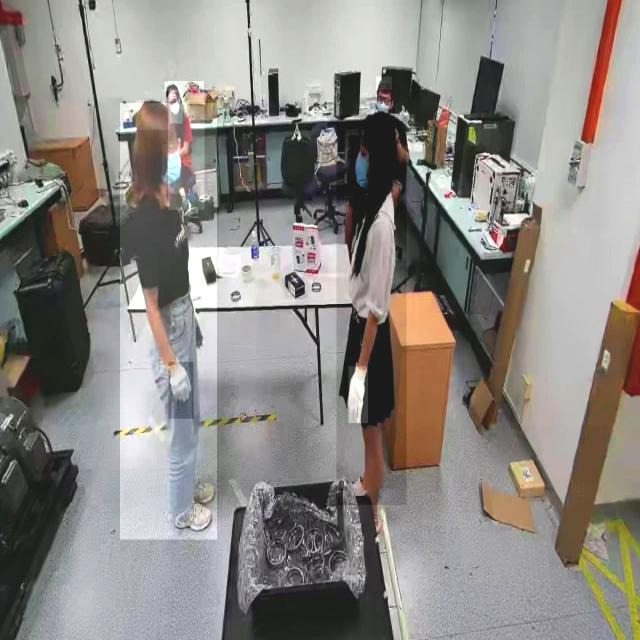face_mask: (351, 135, 371, 193), (162, 144, 182, 194), (170, 90, 182, 124)
hand_glove: (168, 362, 194, 419), (348, 366, 368, 424)
head_nohelmet: (360, 108, 396, 140), (135, 100, 171, 130), (376, 76, 392, 90), (164, 82, 178, 92)
person: (120, 103, 218, 541), (337, 114, 407, 506), (168, 81, 204, 210)
shoes: (170, 494, 214, 539), (179, 474, 217, 503)
